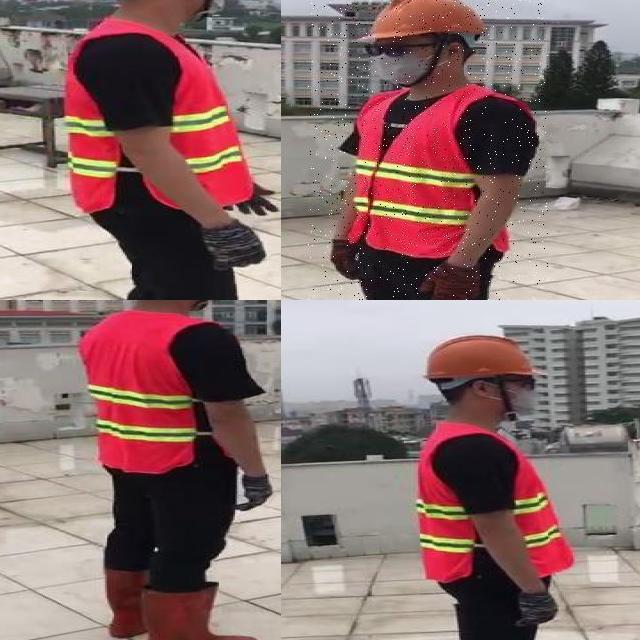boots: (137, 582, 259, 640), (100, 566, 157, 640), (191, 223, 269, 270)
face_mask: (491, 376, 548, 416)
hand_glove: (507, 591, 559, 627), (239, 473, 274, 512)
head_helmet: (356, 0, 491, 42), (421, 334, 535, 382)
person: (0, 0, 281, 300), (308, 0, 548, 300), (71, 300, 275, 640), (395, 327, 592, 640)
vest: (66, 16, 253, 210), (409, 414, 575, 582), (353, 87, 511, 256), (80, 306, 212, 476)
